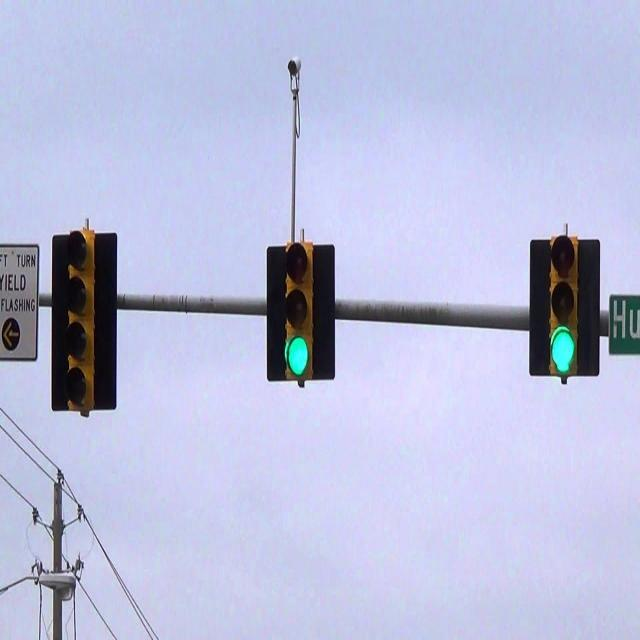green_light: (280, 238, 315, 384), (550, 234, 578, 372)
